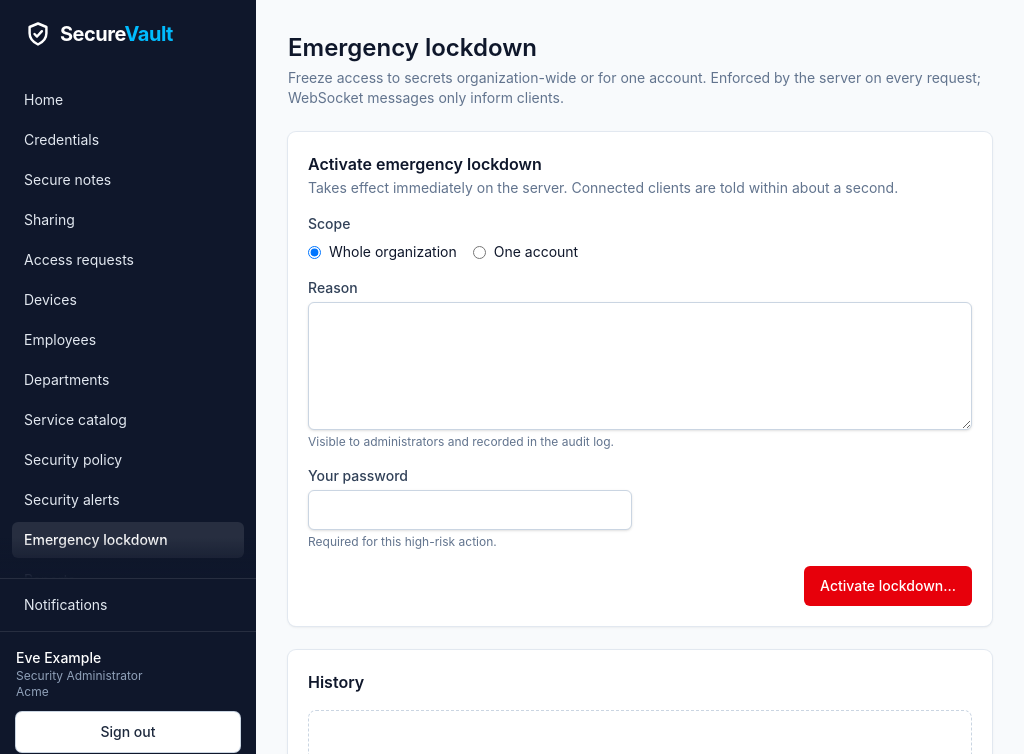
Test: lockdown controls › validates, asks for confirmation, then activates with re-authentication
This screenshot has width=1024, height=754.
Click the button "Activate lockdown…".
click(888, 586)  # box [804,566,972,606]
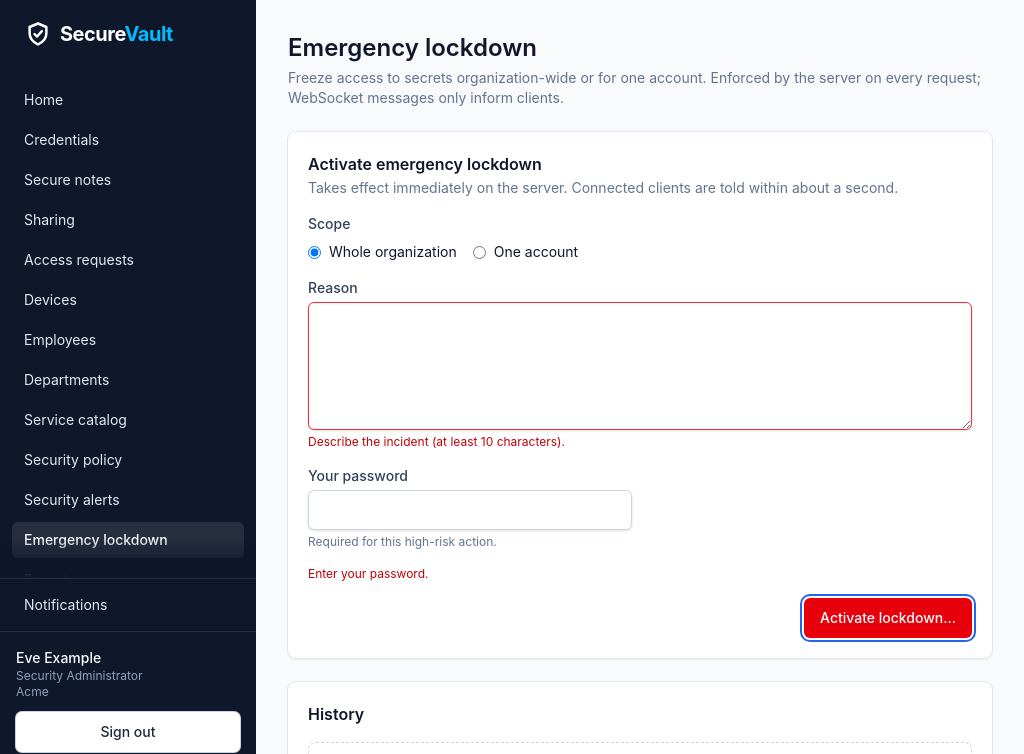
Check: the text "Describe the incident (at least 10 characters)." is shown, box [308,434,565,449]
Check: the text "Enter your password." is shown, box [308,566,428,581]
Type "Leaked deploy key in public repo" into the text box labelled "Reason".
click(640, 366); type("Leaked deploy key in public repo")  # box [308,302,972,430]
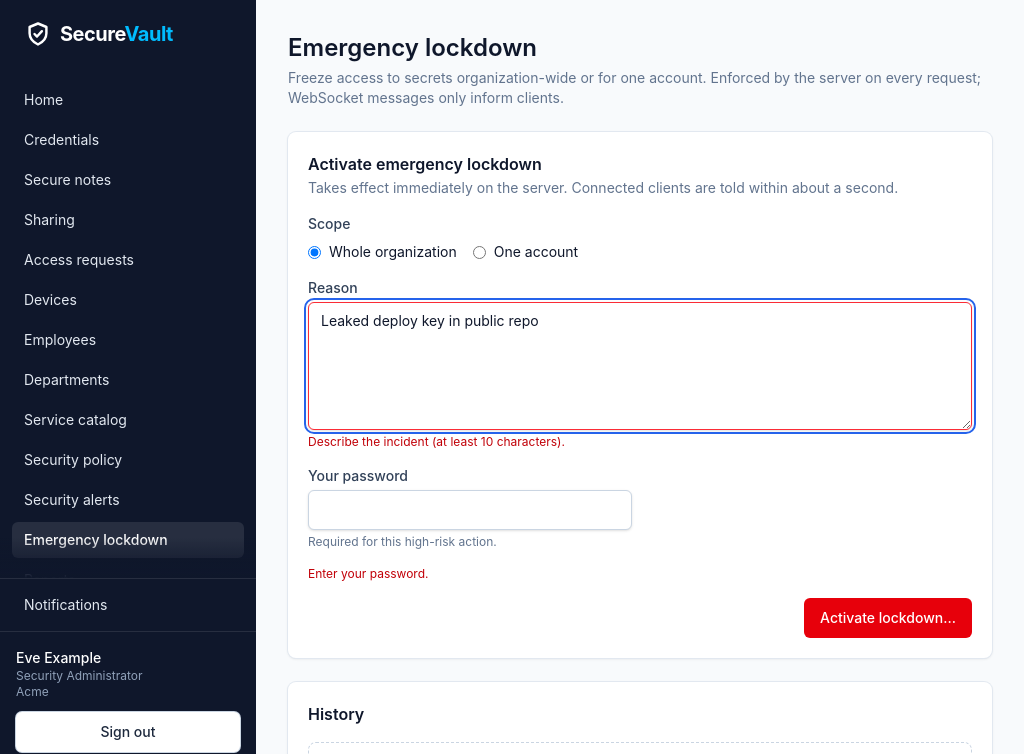
Type "correct-horse-battery" into the password field labelled "Your password".
click(470, 510); type("correct-horse-battery")  # box [308,490,632,530]
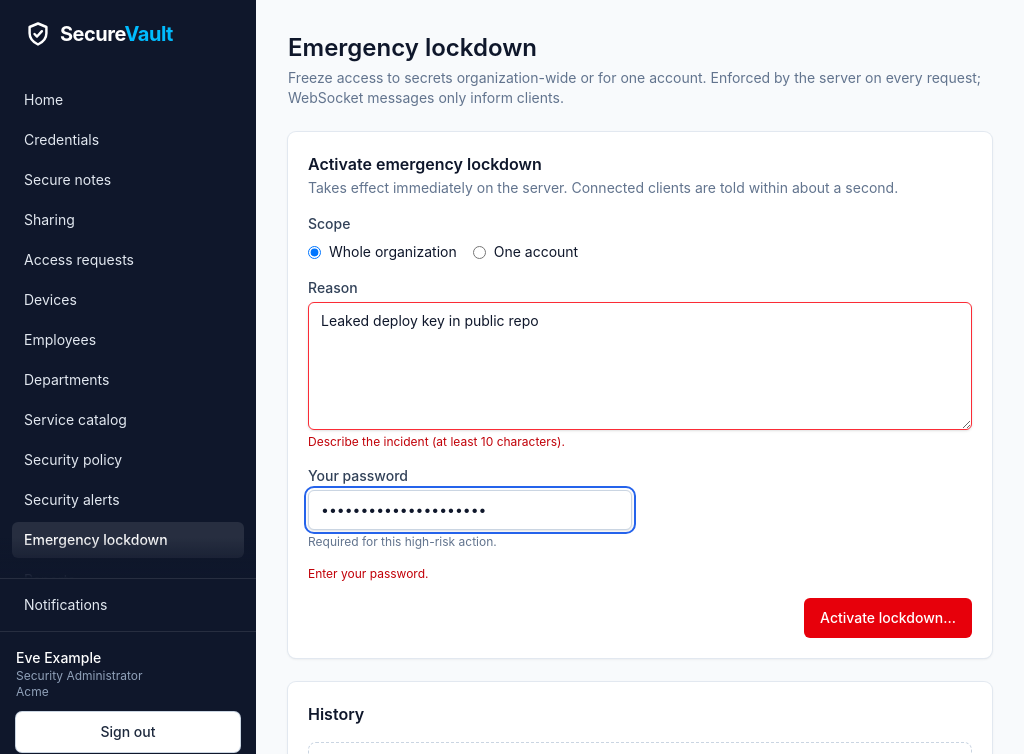
Click the button "Activate lockdown…".
click(888, 618)  # box [804,598,972,638]
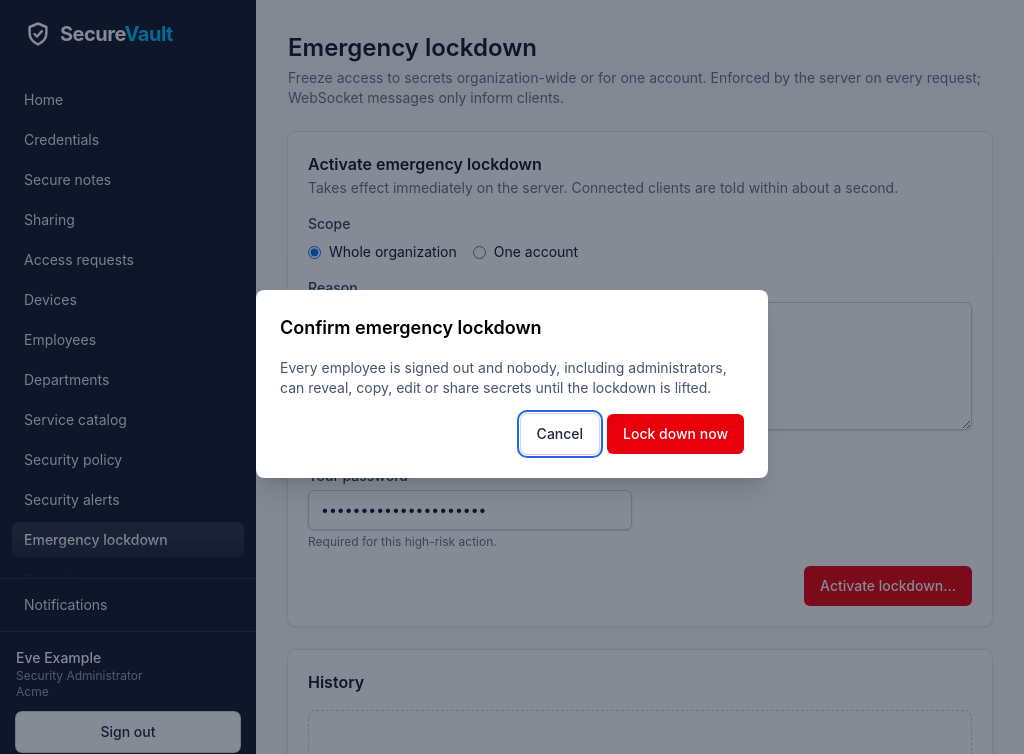
Check: the text "nobody, including administrators" is shown, box [280,359,727,396]
Click the button "Lock down now".
click(676, 434)  # box [607,414,744,454]
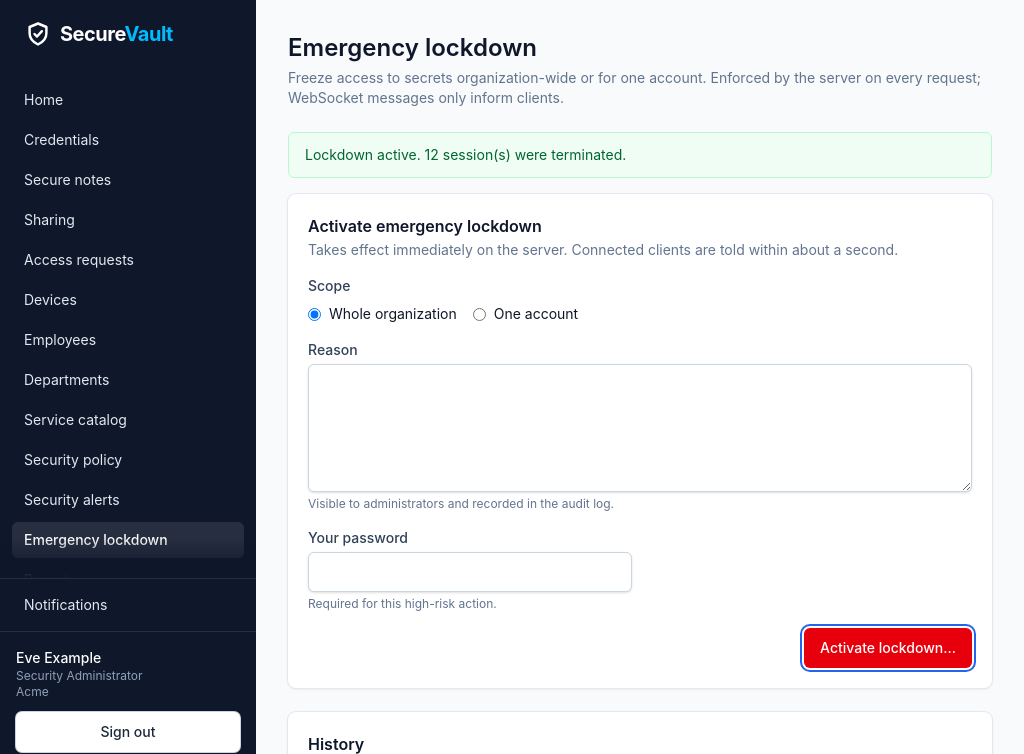
Check: the text "Lockdown active. 12 session(s) were terminated." is shown, box [288,132,992,178]
Check: the password field labelled "Your password" is empty, box [308,552,632,592]
